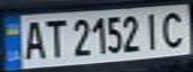1: (90, 14, 109, 56)
2: (69, 16, 93, 57), (121, 11, 142, 54)
5: (106, 12, 124, 54)
A: (18, 17, 48, 61)
C: (157, 8, 190, 48)
I: (139, 10, 166, 51)
T: (39, 16, 66, 60)
